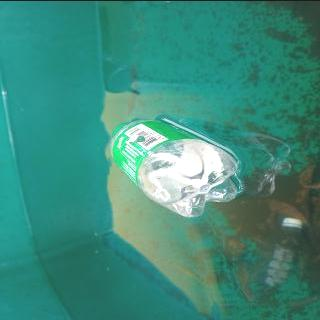bottle: (106, 116, 240, 220)
